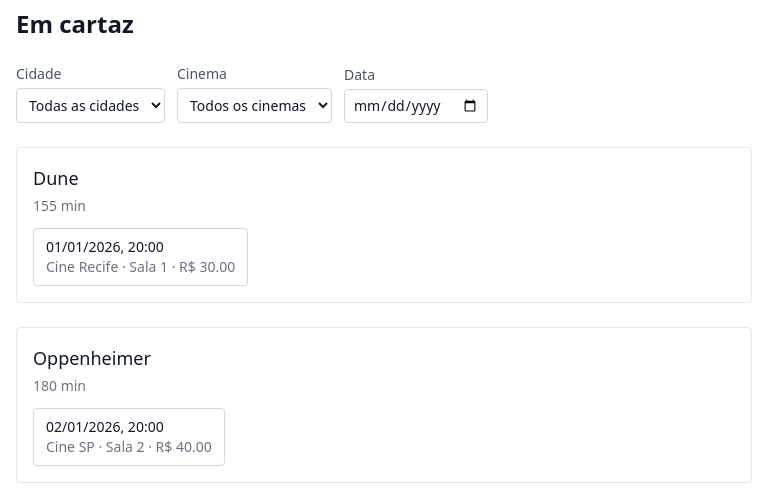
Test case: MoviesPage (integration) › filters › should show 'Limpar filtros' only once a filter is active, and clear every filter when clicked
The width and height of the screenshot is (769, 500).
Expected: the heading "Oppenheimer" is shown, x1=33 y1=346 x2=151 y2=370
Expected: the button "Limpar filtros" is not shown
# WHEN the user filters by city
Select "Recife" in the dropdown labelled "Cidade". click: [90, 106]
box: x1=16 y1=88 x2=165 y2=123
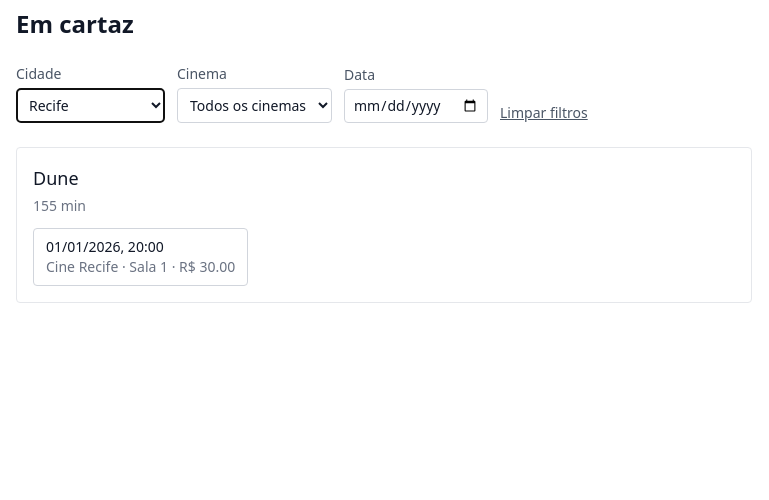
Expected: the heading "Dune" is shown, x1=33 y1=166 x2=78 y2=190
Now the heading "Oppenheimer" is gone
# AND clicks "Limpar filtros"
Click the button "Limpar filtros". click: [544, 113]
box: x1=500 y1=103 x2=588 y2=123
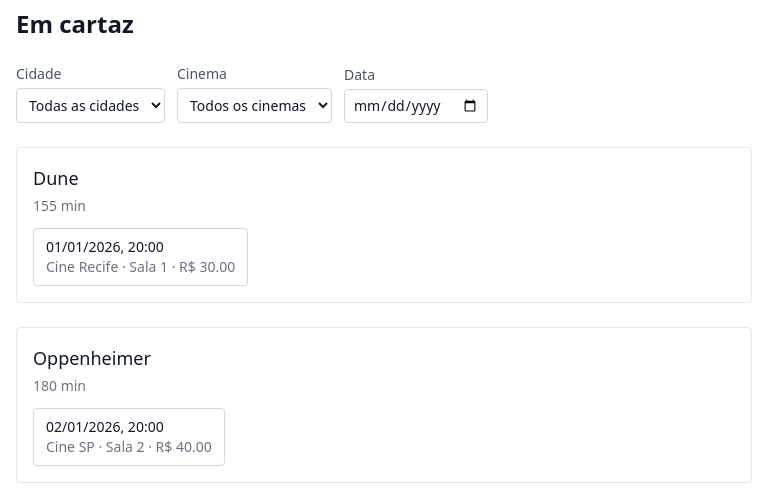
Now the heading "Oppenheimer" is shown, box x1=33 y1=346 x2=151 y2=370
Now the button "Limpar filtros" is gone
